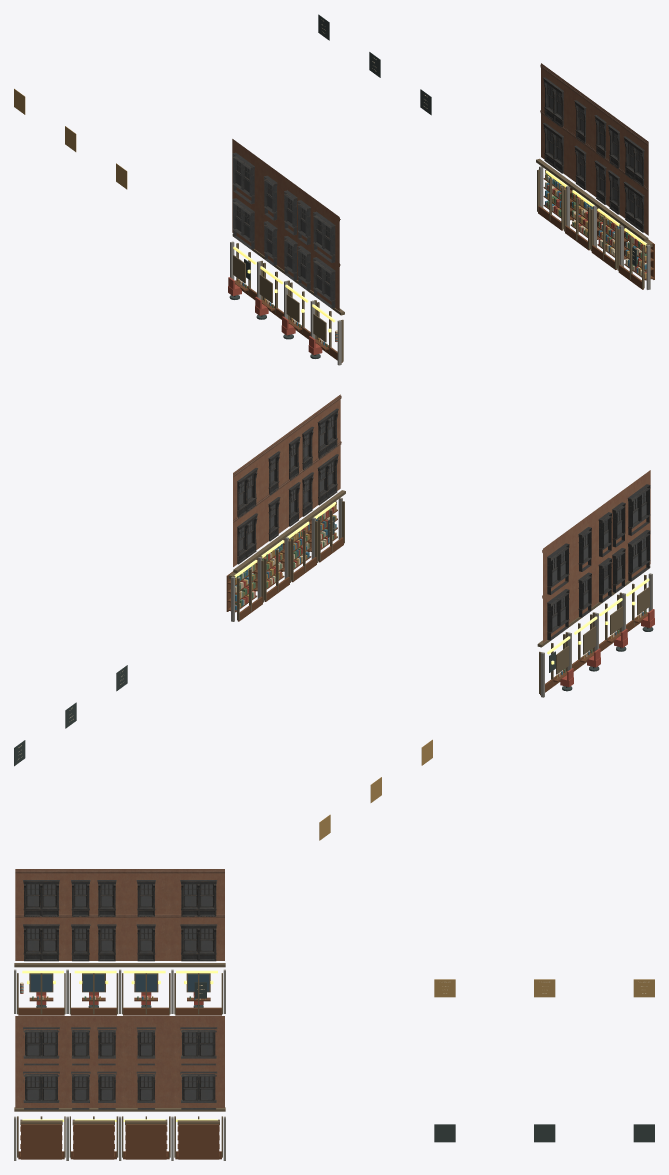
Rendered from district-detail-s05.glb.
3 renders of one model, top to bottom at view 1: azimuth 30°, elevation 25°; view 2: azimuth 150°, elevation 25°; view 3: azimuth 270°, elevation 25°, orthographic. The views are drawn at different scales.
Parts seen in each view (by area): view 1: Adapted wall_window_centered_large_01; view 2: Adapted wall_window_centered_large_01; view 3: Adapted wall_window_centered_large_01.
Boxes of the visible parts, <box> form: Adapted wall_window_centered_large_01: <box>14,14,654,365</box>; Adapted wall_window_centered_large_01: <box>14,394,654,840</box>; Adapted wall_window_centered_large_01: <box>14,869,654,1160</box>.
Bounding box in the file's own units: 21.5 × 9.13 × 36.68.
15 materials, 4 textured.
